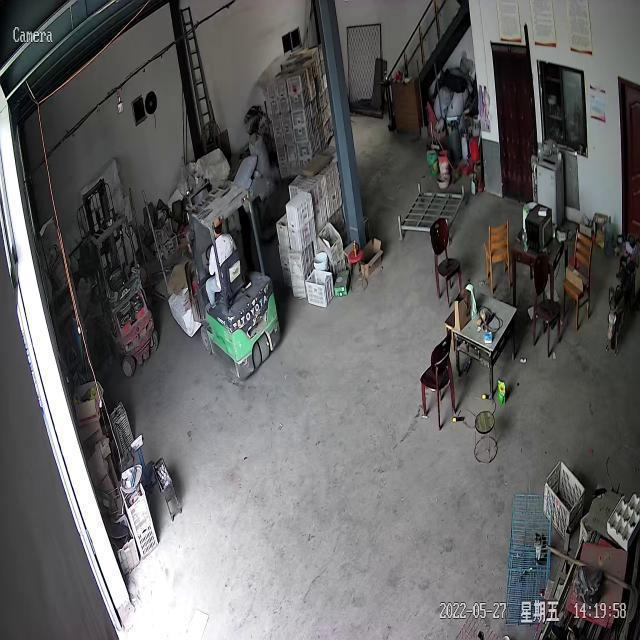forklift: (193, 198, 284, 381), (92, 220, 158, 377)
